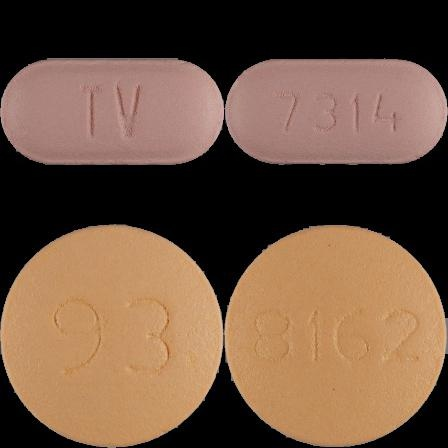61786-972: (0, 0, 224, 224)
